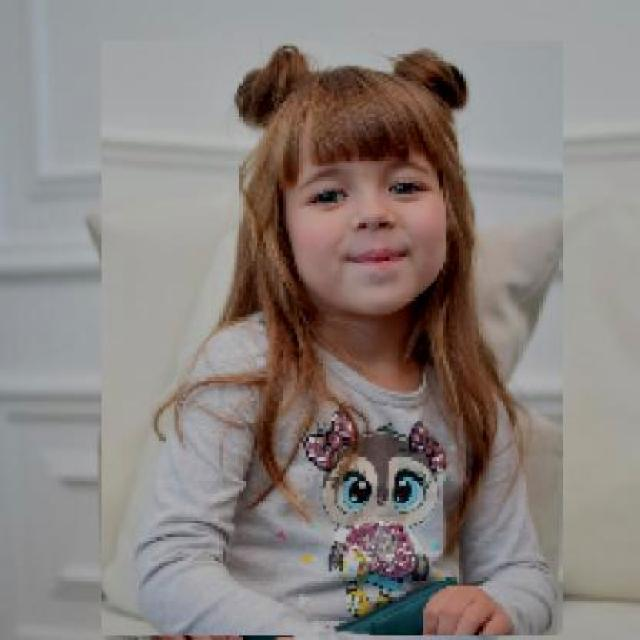child: (100, 40, 563, 637)
